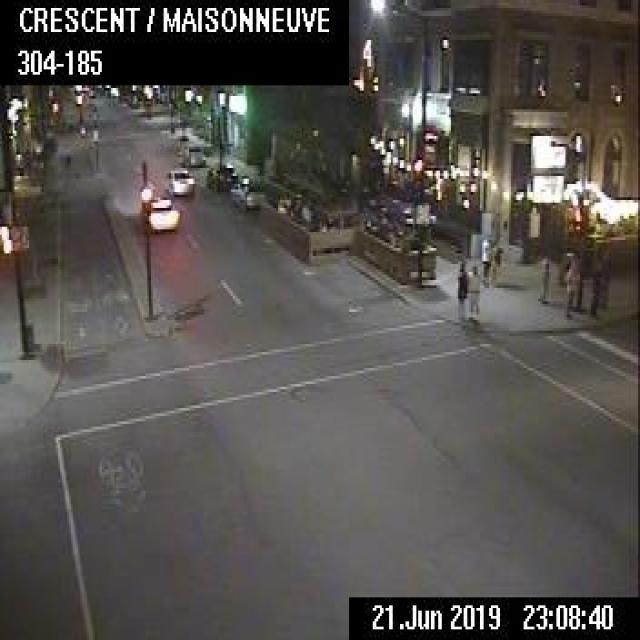pedestrian: (478, 230, 503, 283), (562, 256, 576, 318), (453, 256, 467, 317), (466, 262, 480, 319)
vehicle: (230, 173, 264, 208), (148, 196, 178, 228), (205, 162, 237, 190), (164, 167, 194, 194), (178, 139, 205, 165)
